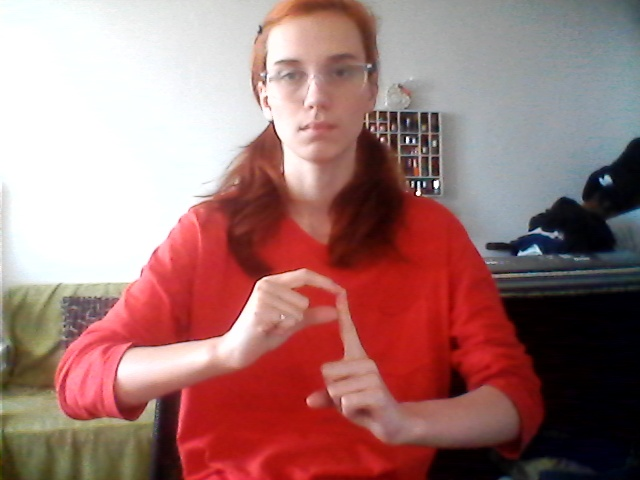p: (227, 262, 405, 451)
